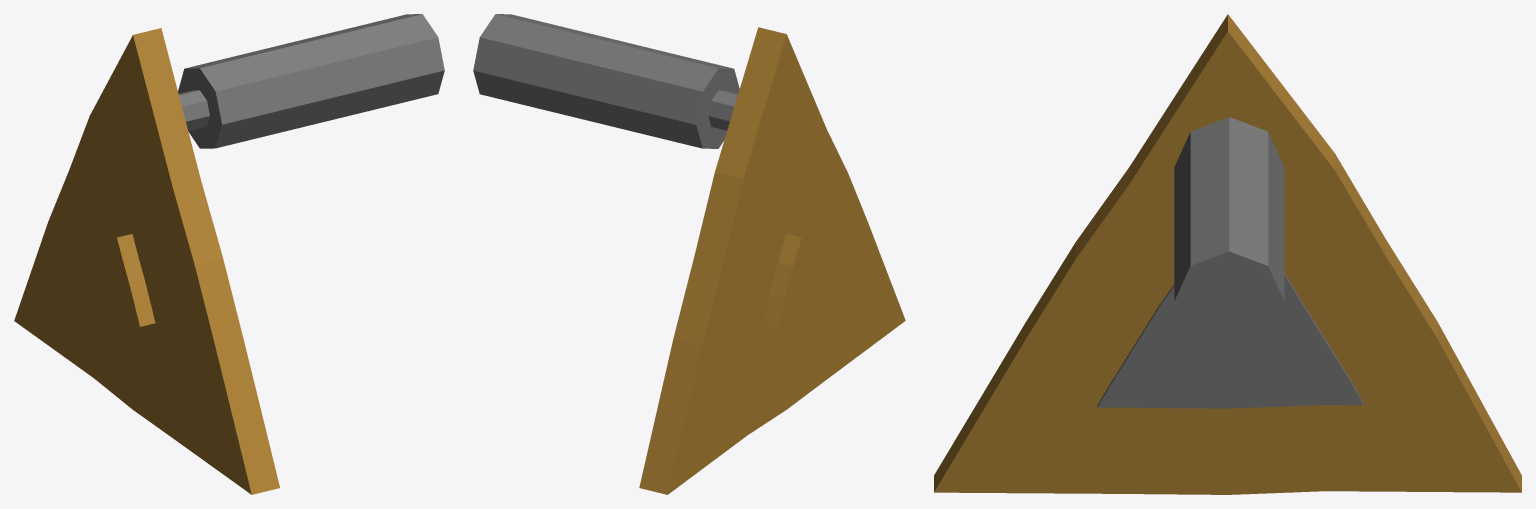
The model's file is CraneWinch.glb.
3 views of the same model, side by side, from view 1: azimuth 30°, elevation 25°; view 2: azimuth 150°, elevation 25°; view 3: azimuth 270°, elevation 25° (orthographic). The views are drawn at different scales.
Visible parts, largest first — view 1: Winch; view 2: Winch; view 3: Winch.
Boxes of the visible parts, bbox=[...] form: Winch: bbox=[14, 14, 444, 494]; Winch: bbox=[473, 14, 905, 494]; Winch: bbox=[934, 14, 1521, 494].
Bounding box in the file's own units: 0.3597 × 0.4216 × 0.4843.
